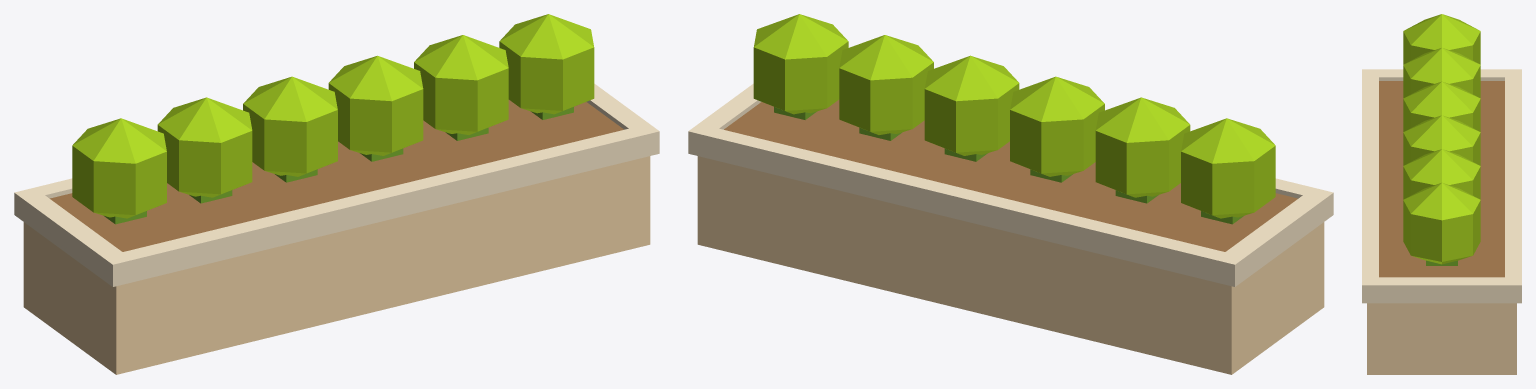
Rendered from Planter_Hedge.glb.
3 views of the same model, side by side, from view 1: azimuth 30°, elevation 25°; view 2: azimuth 150°, elevation 25°; view 3: azimuth 270°, elevation 25° (orthographic). The views are drawn at different scales.
Visible parts, largest first — view 1: Planter_Hedge; view 2: Planter_Hedge; view 3: Planter_Hedge.
Part boxes in pixels (bbox=[...]): Planter_Hedge: bbox=[14, 14, 659, 374]; Planter_Hedge: bbox=[688, 14, 1333, 374]; Planter_Hedge: bbox=[1362, 14, 1521, 374].
Bounding box in the file's own units: 2.56 × 0.941 × 0.8.
